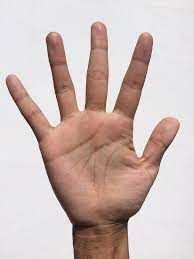palm: (5, 21, 180, 227)
